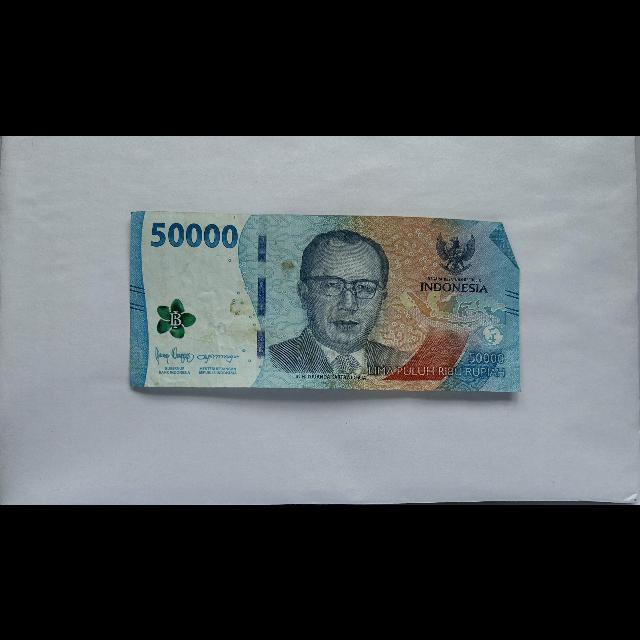Asli-50k: (129, 208, 523, 394)
Tinta-Asli-50k: (156, 297, 197, 339)
